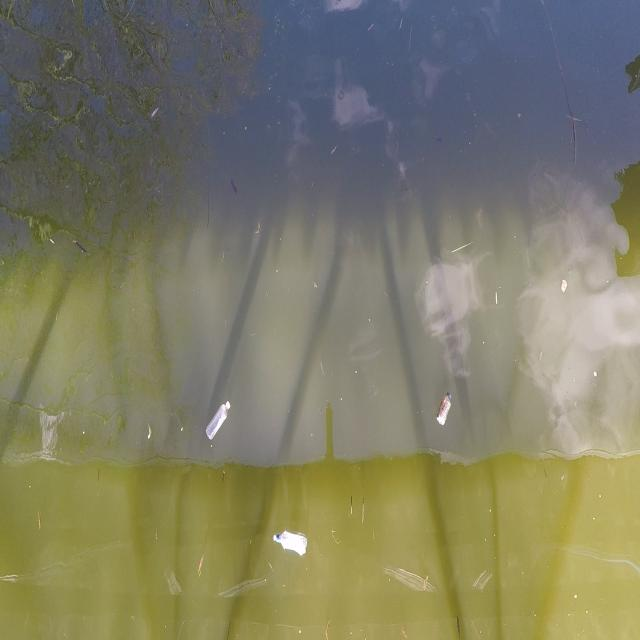Bouteille plastique: (200, 394, 234, 452), (270, 525, 311, 565), (434, 385, 458, 436)
